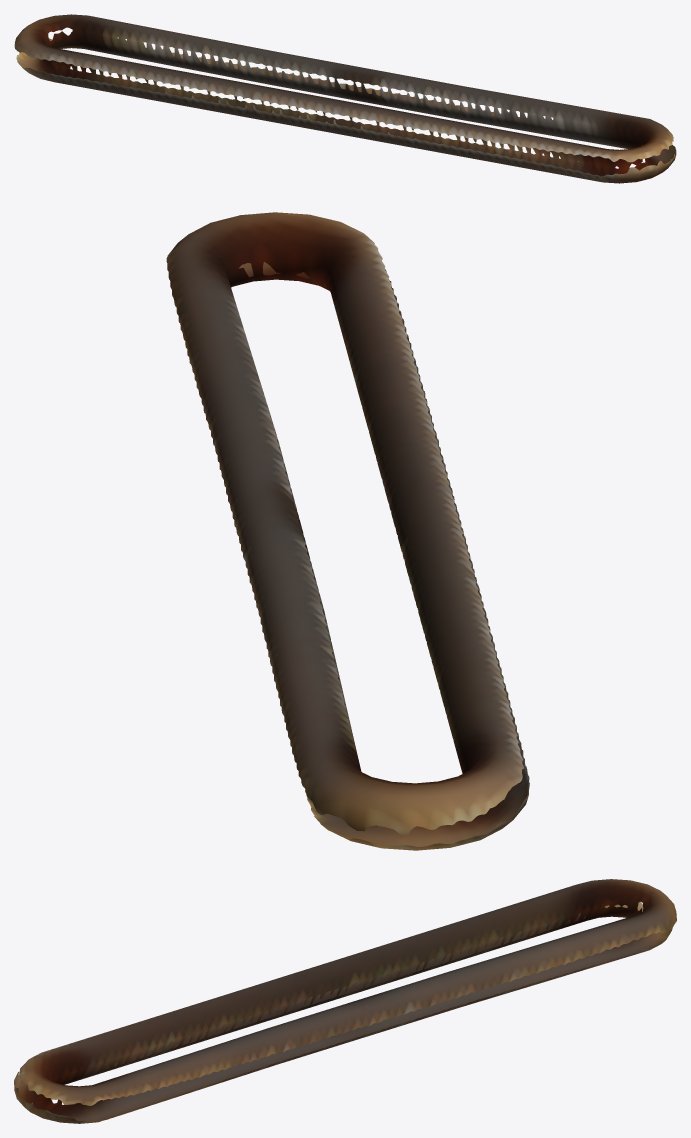
File: rrubber1.fbx
3 views of the same model, one above another, from view 1: azimuth 30°, elevation 25°; view 2: azimuth 150°, elevation 25°; view 3: azimuth 270°, elevation 25° (orthographic). The views are drawn at different scales.
Parts seen in each view (by area): view 1: rrubber1; view 2: rrubber1; view 3: rrubber1.
Part boxes in pixels (x1,y1,x2,y2): rrubber1: (14,14,676,183); rrubber1: (166,212,529,850); rrubber1: (14,879,676,1123).
Bounding box in the file's own units: 7.06 × 0.5054 × 8.86.
Materials: 1 (1 with a texture image).
